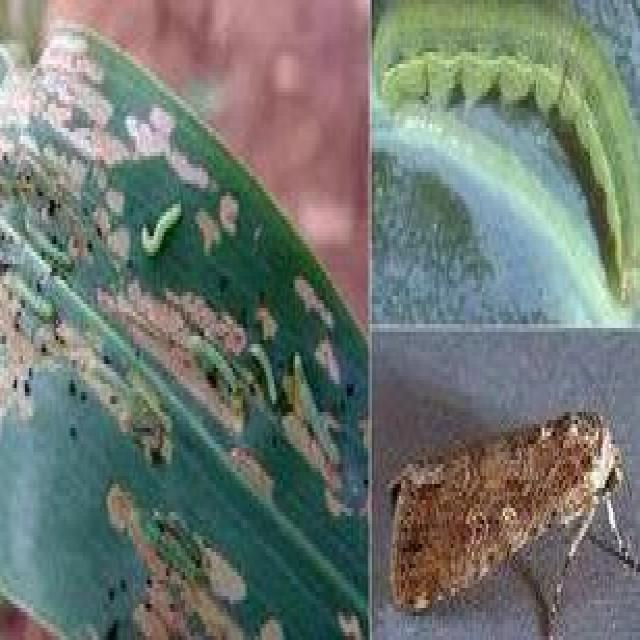BeetArmyWorm-Adult-: (390, 397, 630, 614)
BeetArmyWorm-Larva-: (375, 1, 638, 297), (136, 195, 189, 262), (247, 337, 281, 416)
